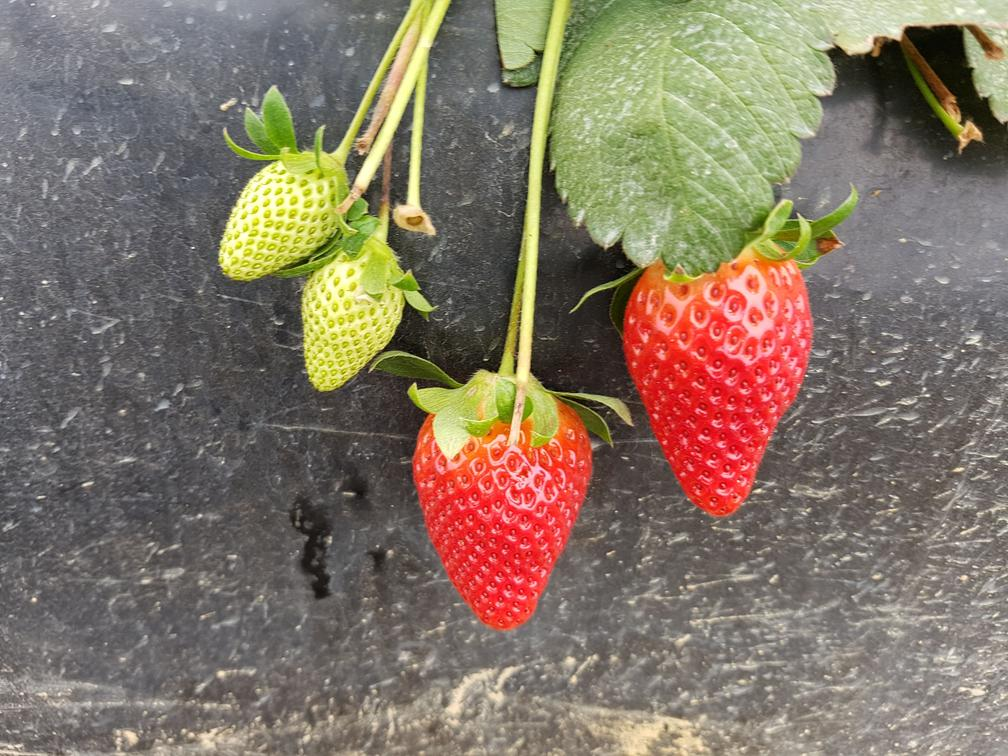Ripe: (625, 245, 813, 520), (418, 370, 593, 638)
Unripe: (202, 140, 362, 277), (302, 261, 405, 395)
